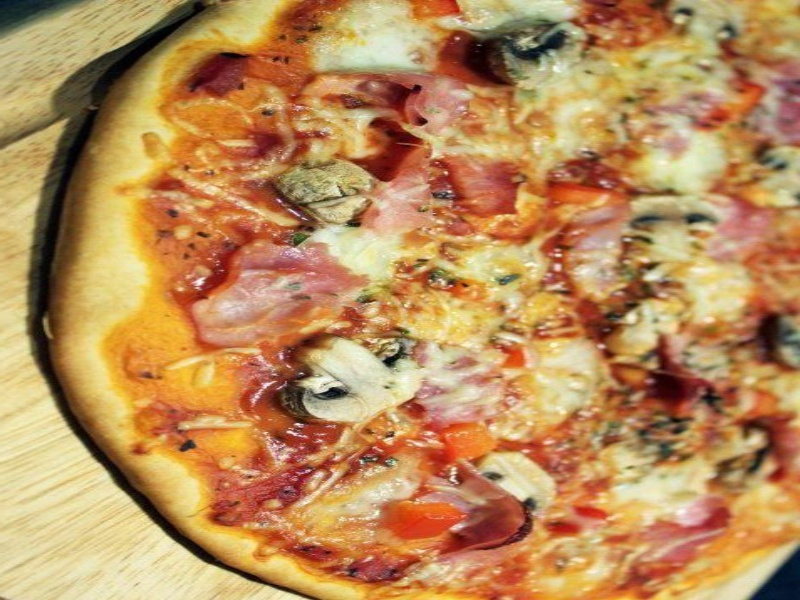champignon: (281, 328, 428, 428)
